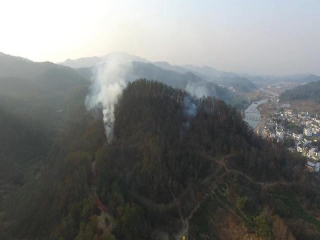smoke: (85, 54, 136, 144), (178, 81, 215, 127)
